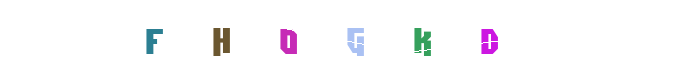D: (382, 0, 462, 80)
F: (112, 0, 192, 80)
G: (305, 0, 385, 80)
H: (181, 0, 261, 80)
K: (345, 0, 425, 80)
O: (298, 0, 378, 80)
